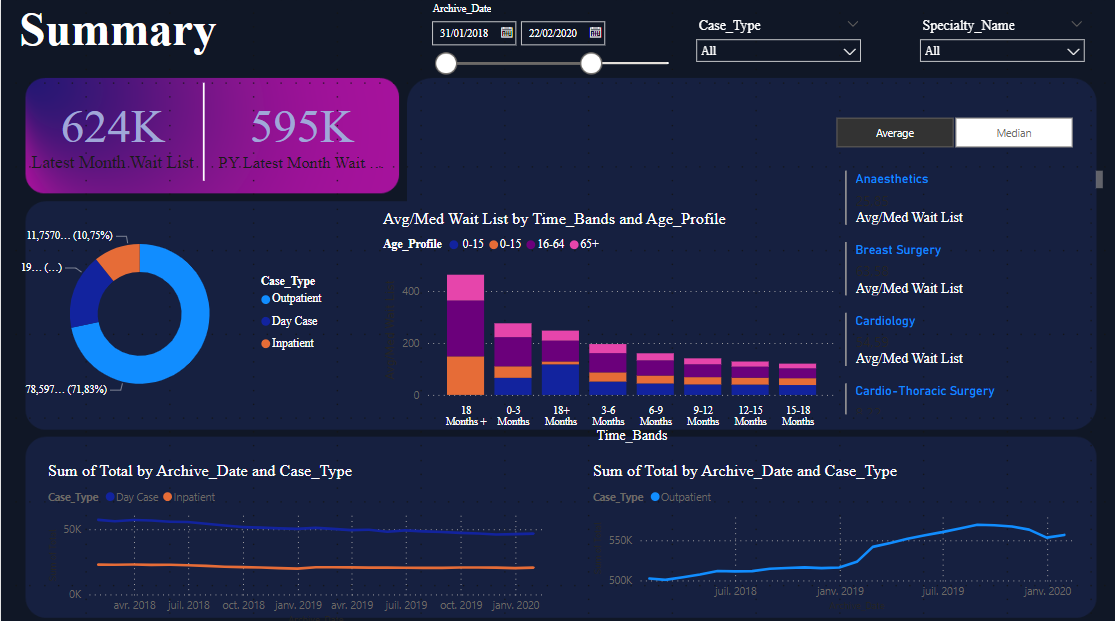

What the dashboard file says about the page in this screenshot:
{"tool":"powerbi","page":{"name":"Summary","canvas":[1280,720],"ordinal":0},"visuals":[{"type":"card","fields":{"Values":["All_Data.Latest Month Wait List"]},"box":[16,96,224,112],"z":0},{"type":"card","fields":{"Values":["All_Data.PY Latest Month Wait List"]},"box":[240,96,208,112],"z":1000},{"type":"slicer","fields":{"Values":["Calculation Methods.Calc Method"]},"box":[928,128,320,48],"z":2000},{"type":"donutChart","fields":{"Y":["All_Data.Avg/Med Wait List"],"Category":["All_Data.Case_Type"]},"box":[16,240,368,240],"z":3000},{"type":"columnChart","fields":{"Y":["All_Data.Avg/Med Wait List"],"Series":["All_Data.Age_Profile"],"Category":["All_Data.Time_Bands"]},"box":[432,240,528,272],"z":4000},{"type":"multiRowCard","fields":{"Values":["All_Data.Specialty_Name","All_Data.Avg/Med Wait List"]},"box":[960,192,304,288],"z":5000},{"type":"lineChart","fields":{"Category":["All_Data.Archive_Date"],"Y":["Sum(All_Data.Total)"],"Series":["All_Data.Case_Type"]},"box":[48,528,592,192],"z":6000},{"type":"lineChart","fields":{"Category":["All_Data.Archive_Date"],"Y":["Sum(All_Data.Total)"],"Series":["All_Data.Case_Type"]},"box":[672,528,576,176],"z":7000},{"type":"slicer","fields":{"Values":["All_Data.Archive_Date"]},"box":[480,0,304,128],"z":8000},{"type":"slicer","fields":{"Values":["All_Data.Case_Type"]},"box":[784,16,208,96],"z":9000},{"type":"slicer","fields":{"Values":["All_Data.Specialty_Name"]},"box":[1040,16,208,96],"z":10000},{"type":"textbox","box":[16,0,304,80],"z":11000},{"type":"shape","box":[176,96,112,112],"z":12000},{"type":"actionButton","box":[1179.9,472.8,100.1,39.8],"z":13000}]}

Visuals, with their boxes in screenshot pixels (x1, y1, x2, y2), scaled from the page's 1280x720 canvas onto the 1115x621 screenshot:
card - All_Data.Latest Month Wait List: Rect(14, 83, 209, 179)
card - All_Data.PY Latest Month Wait List: Rect(209, 83, 390, 179)
slicer - Calculation Methods.Calc Method: Rect(808, 110, 1087, 152)
donutChart - All_Data.Avg/Med Wait List x All_Data.Case_Type: Rect(14, 207, 334, 414)
columnChart - All_Data.Avg/Med Wait List x All_Data.Age_Profile: Rect(376, 207, 836, 442)
multiRowCard - All_Data.Specialty_Name x All_Data.Avg/Med Wait List: Rect(836, 166, 1101, 414)
lineChart - All_Data.Archive_Date x Sum(All_Data.Total): Rect(42, 455, 558, 620)
lineChart - All_Data.Archive_Date x Sum(All_Data.Total): Rect(585, 455, 1087, 607)
slicer - All_Data.Archive_Date: Rect(418, 0, 683, 110)
slicer - All_Data.Case_Type: Rect(683, 14, 864, 97)
slicer - All_Data.Specialty_Name: Rect(906, 14, 1087, 97)
textbox: Rect(14, 0, 279, 69)
shape: Rect(153, 83, 251, 179)
actionButton: Rect(1028, 408, 1114, 442)
